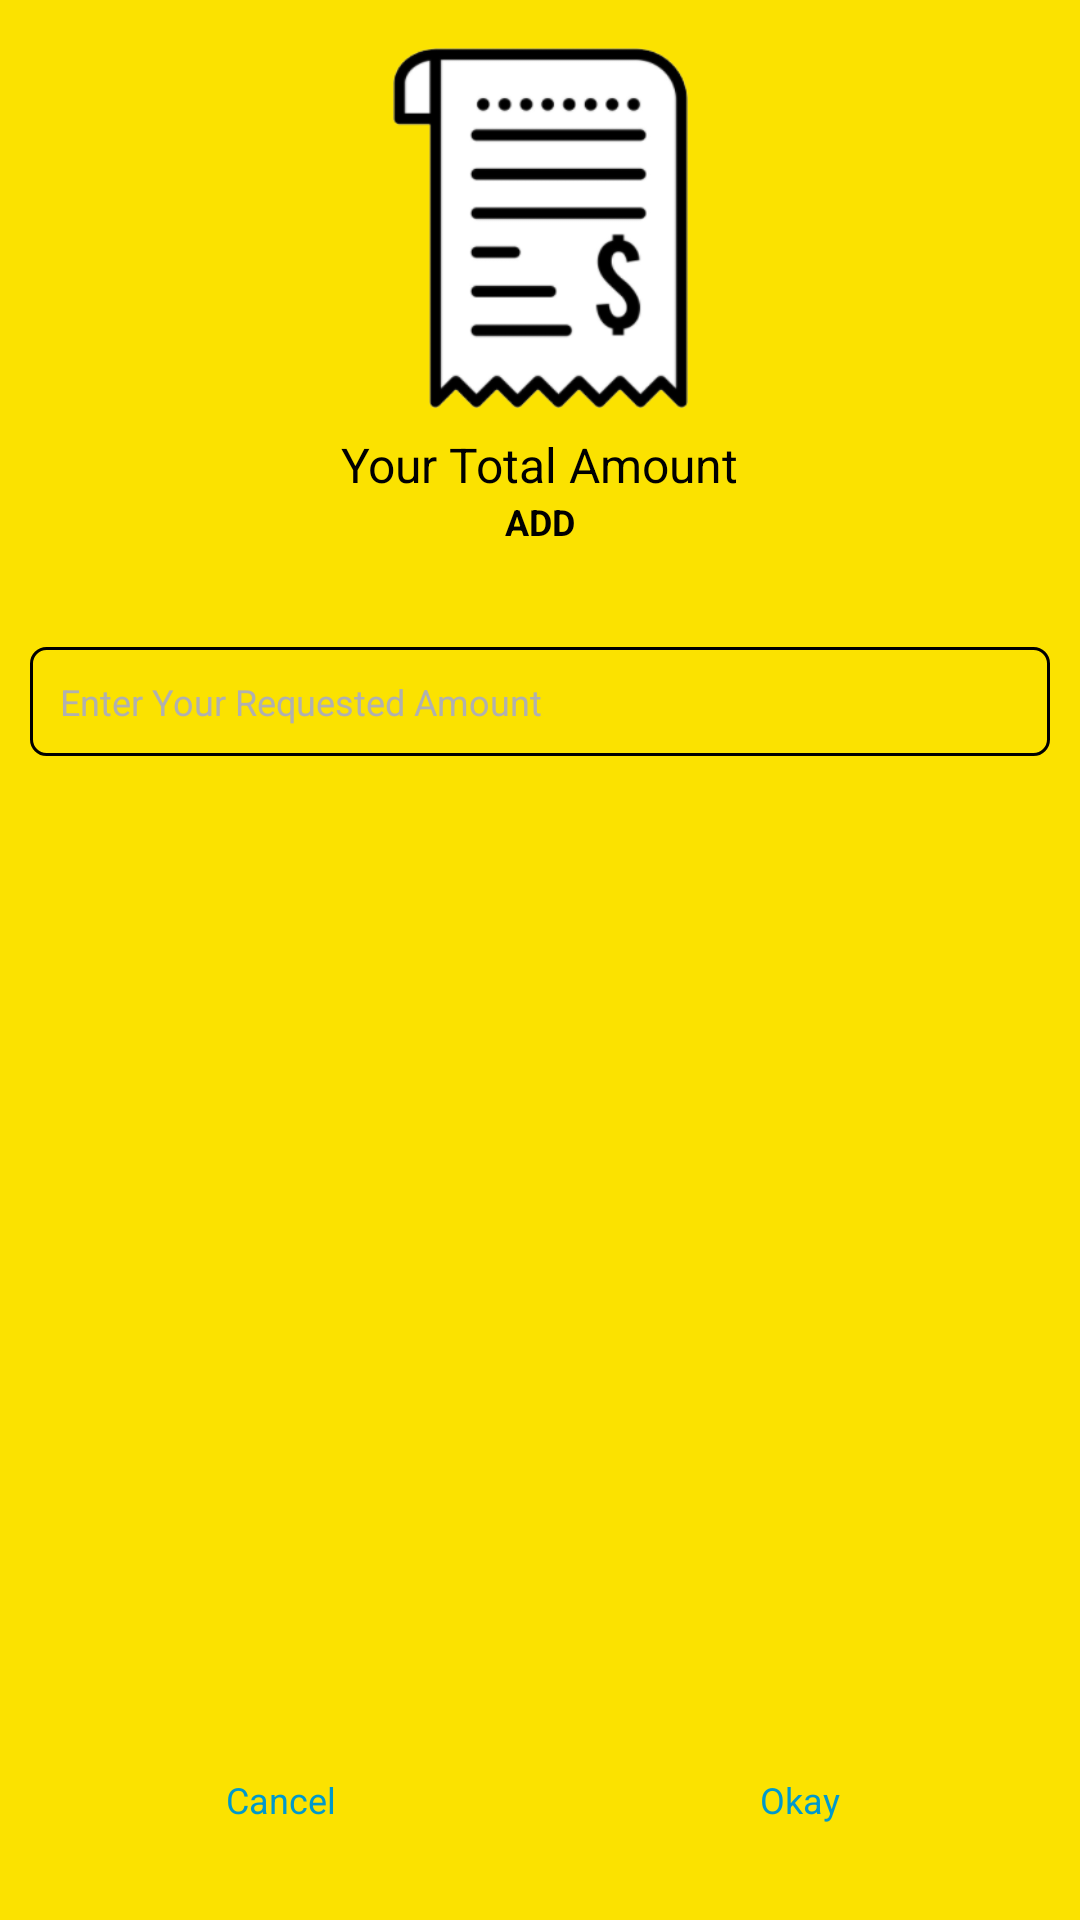

Locate icon controls on the screen. Image size 1080x1920, boxes as bbox(x1, y1, x2, y2).
billing: bbox(393, 48, 688, 408)
